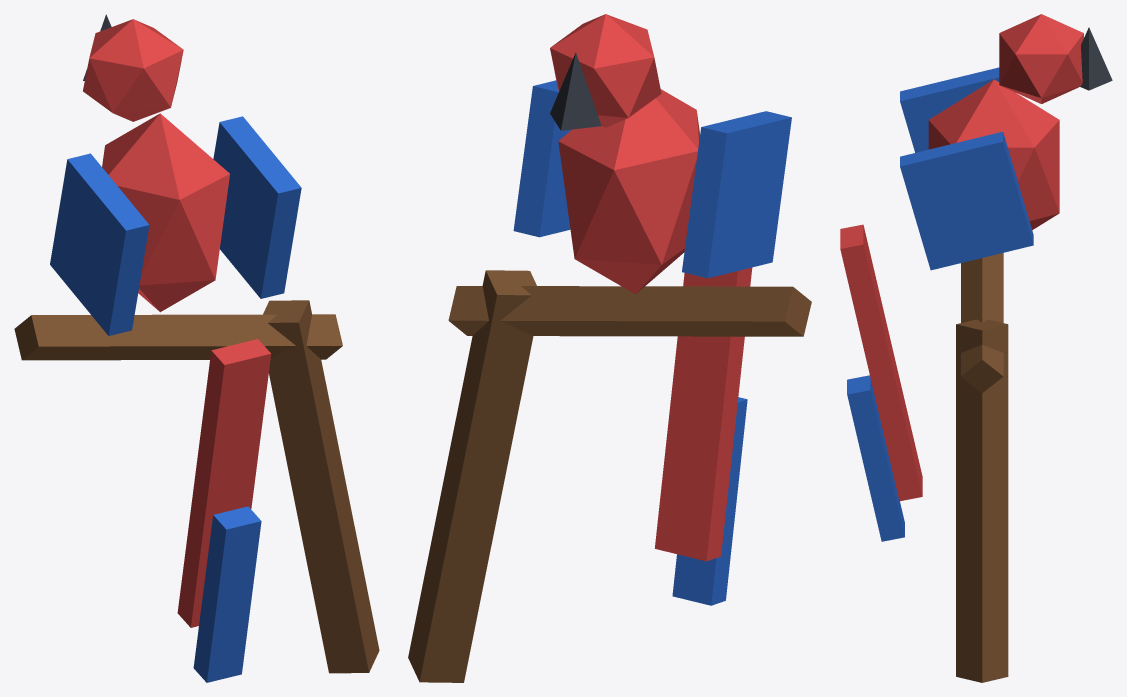
The model's file is arara.glb.
3 views of the same model, side by side, from view 1: azimuth 30°, elevation 25°; view 2: azimuth 150°, elevation 25°; view 3: azimuth 270°, elevation 25° (orthographic). The views are drawn at different scales.
Visible parts, largest first — view 1: corpo; view 2: corpo; view 3: corpo.
Part boxes in pixels (bbox=[...]): corpo: bbox=[14, 14, 379, 682]; corpo: bbox=[408, 14, 811, 682]; corpo: bbox=[840, 14, 1112, 682].
Size of the model in its own units: 0.3056 by 0.5463 by 0.2297.
